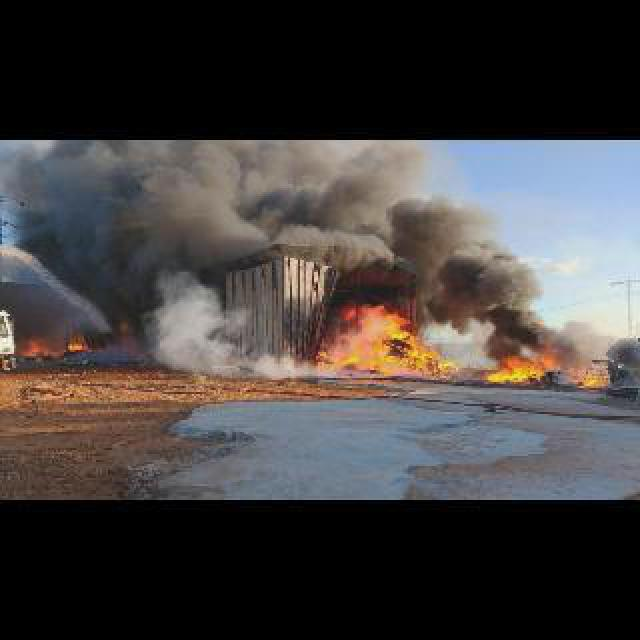fire: (320, 296, 458, 370), (484, 342, 556, 380), (18, 330, 82, 354), (208, 356, 246, 370), (580, 368, 596, 384)
smoke: (0, 140, 562, 338), (138, 264, 254, 356), (418, 298, 504, 372), (258, 350, 320, 378)
